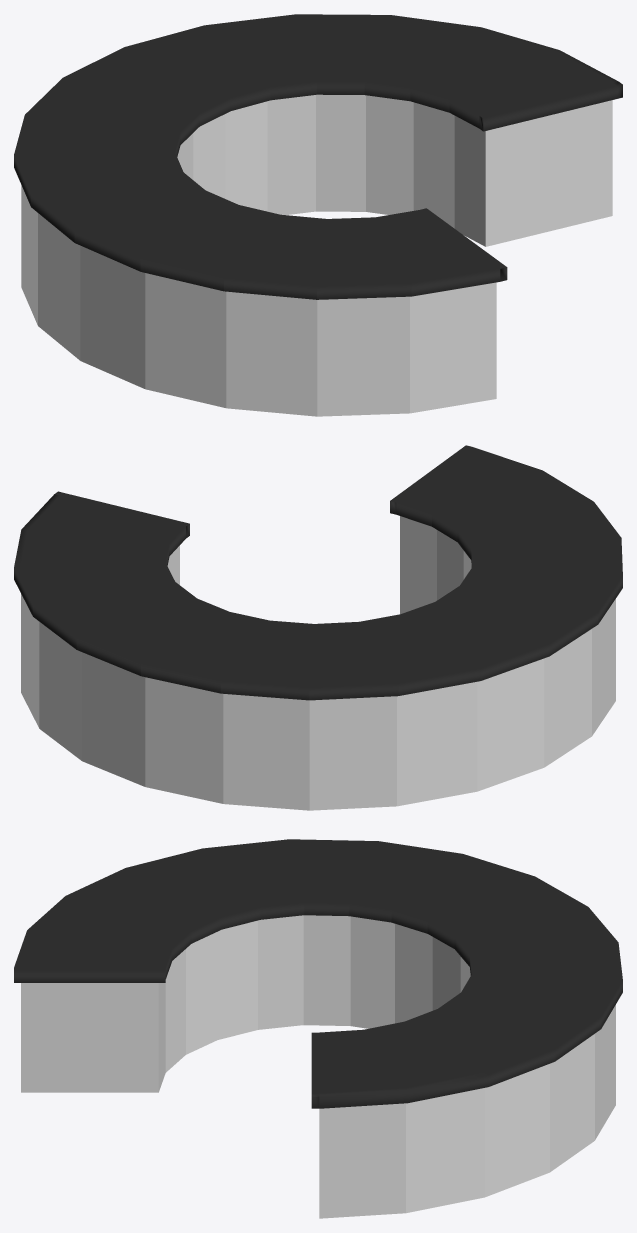
File: HubStol.fbx
3 renders of one model, top to bottom at view 1: azimuth 30°, elevation 25°; view 2: azimuth 150°, elevation 25°; view 3: azimuth 270°, elevation 25°, orthographic. The views are drawn at different scales.
Parts seen in each view (by area): view 1: Plane; view 2: Plane; view 3: Plane.
Boxes of the visible parts, bbox=[...] form: Plane: bbox=[14, 14, 622, 416]; Plane: bbox=[14, 445, 622, 810]; Plane: bbox=[14, 839, 622, 1218].
Bounding box in the file's own units: 4.04 × 0.9149 × 4.04.
Materials: 1 (1 with a texture image).
